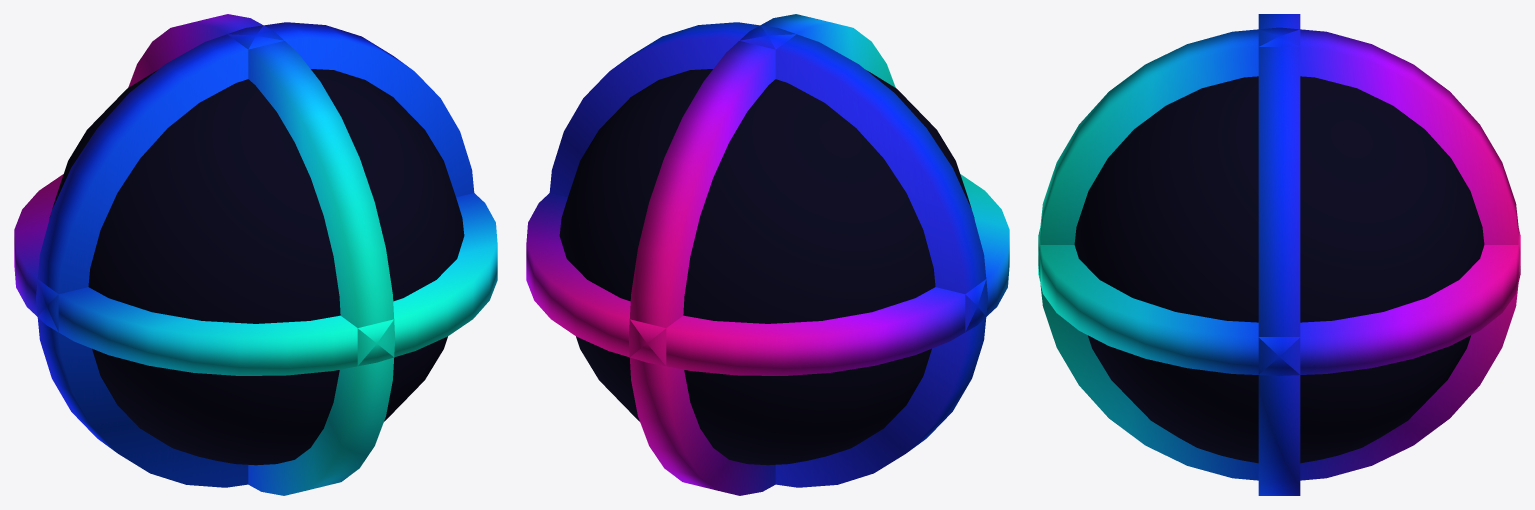
The model's file is Ball-10.dae.
3 views of the same model, side by side, from view 1: azimuth 30°, elevation 25°; view 2: azimuth 150°, elevation 25°; view 3: azimuth 270°, elevation 25° (orthographic).
Parts seen in each view (by area): view 1: Ball; view 2: Ball; view 3: Ball.
Part boxes in pixels (x1,y1,x2,y2): Ball: [14, 14, 497, 495]; Ball: [526, 14, 1009, 495]; Ball: [1038, 14, 1520, 495].
Size of the model in its own units: 0.046 by 0.046 by 0.046.
2 materials, 1 textured.
